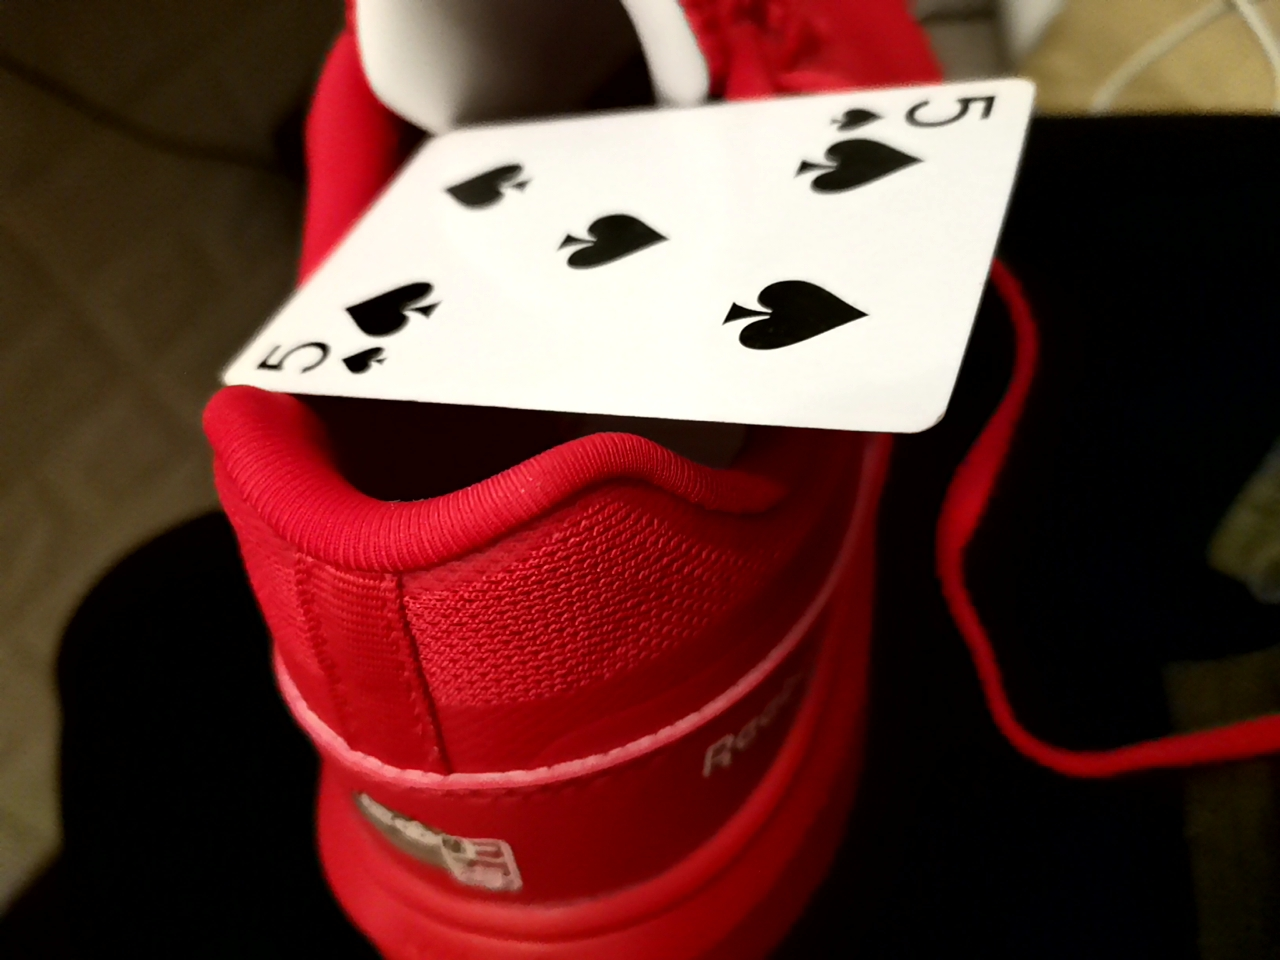ht 5: (243, 90, 1041, 419)
